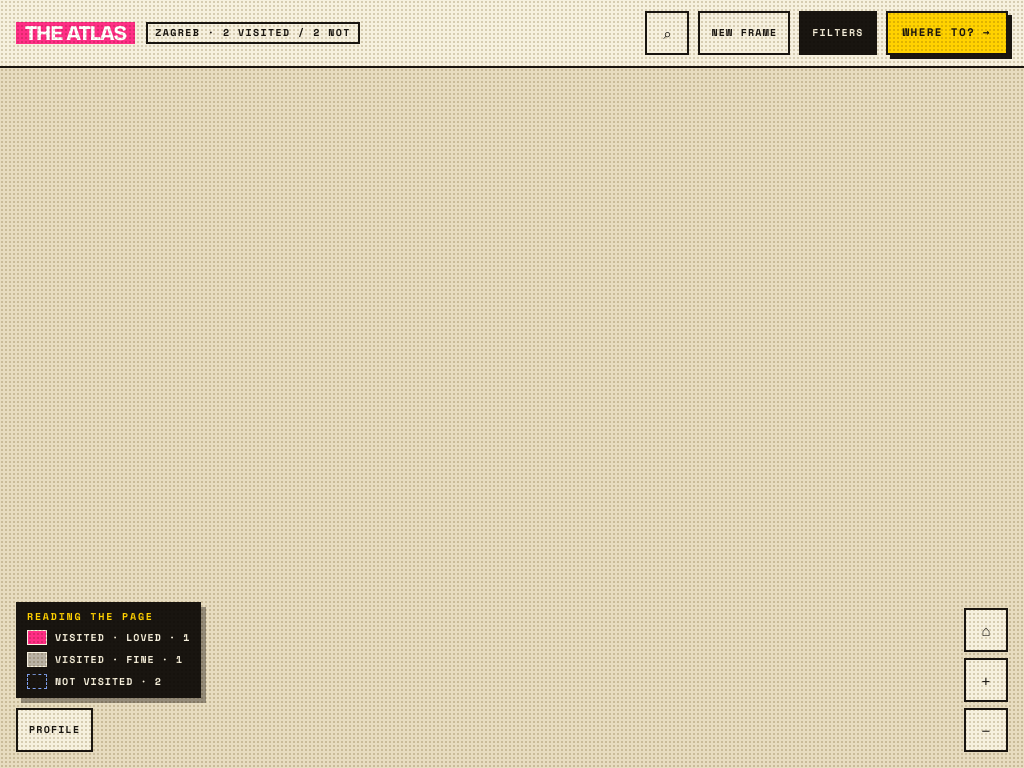
Scenario: AtlasScreen — New Frame flow (Task 10) › cancelling the form closes it without adding a frame
Press the mouse on the element with test id "riso-map-container" at (512,384), box x1=0 y1=0 x2=1023 y2=767
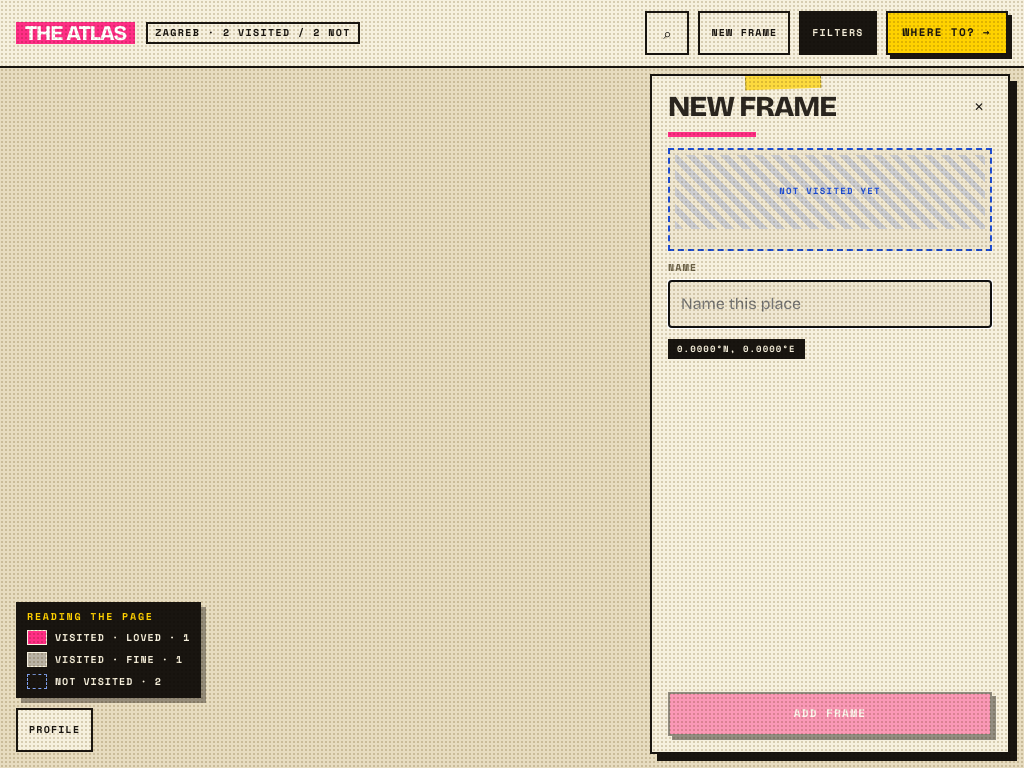
Click the button named "Cancel" at (979,107), box x1=966 y1=94 x2=992 y2=120
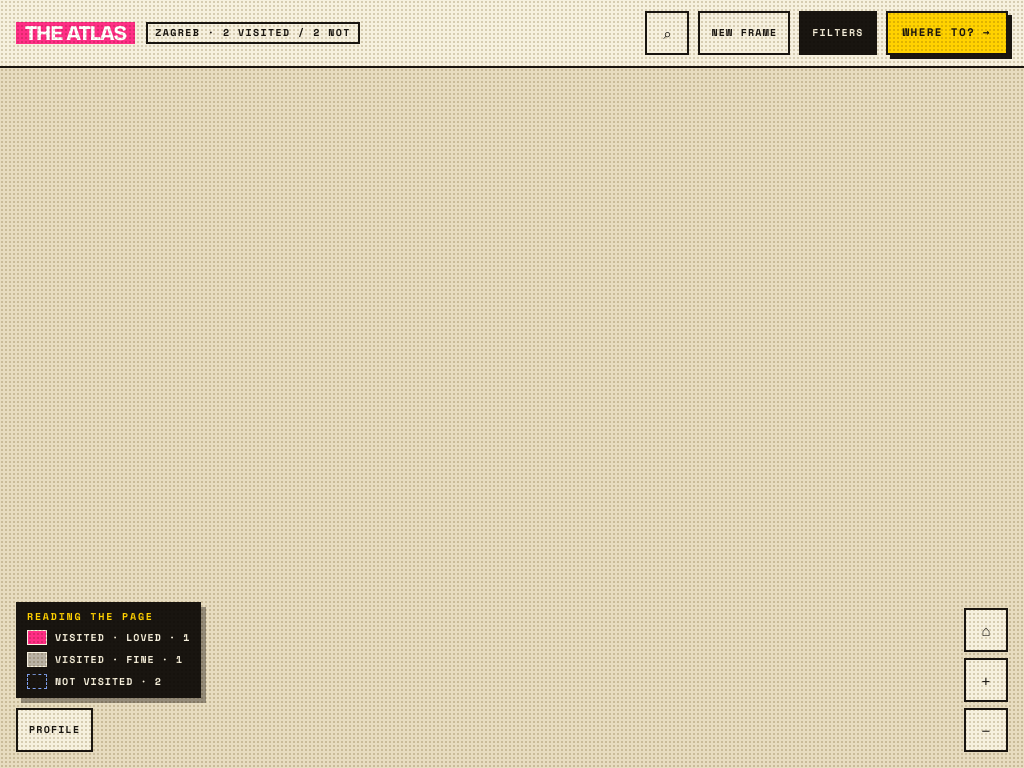
Click the button "Filters" at (838,33), box x1=799 y1=11 x2=877 y2=55
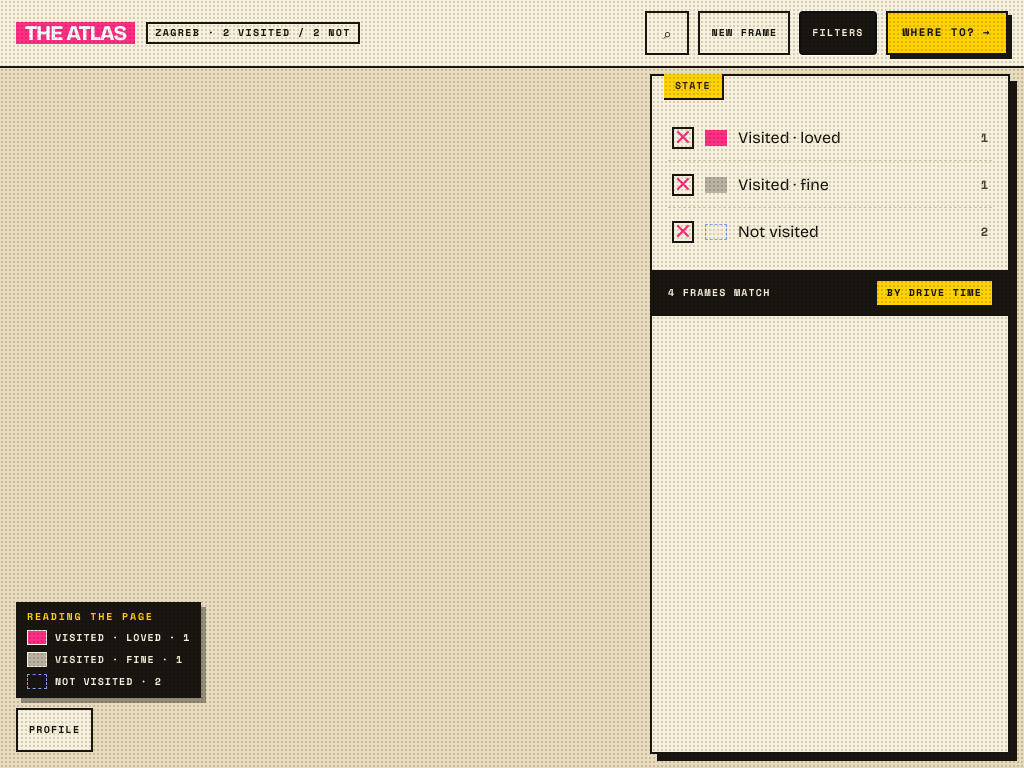
Result: the text "4 frames match" is shown at x1=668 y1=287 x2=770 y2=299
